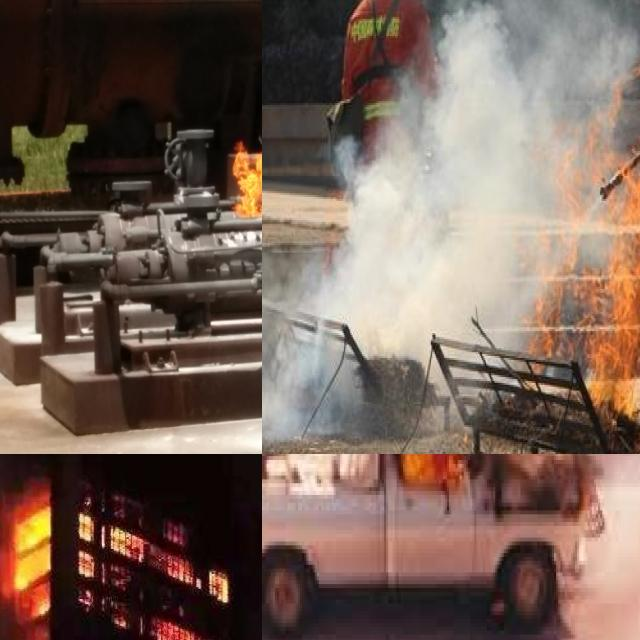fire: (536, 78, 640, 428), (77, 508, 232, 640), (9, 495, 51, 640)
smoke: (262, 0, 637, 440)
